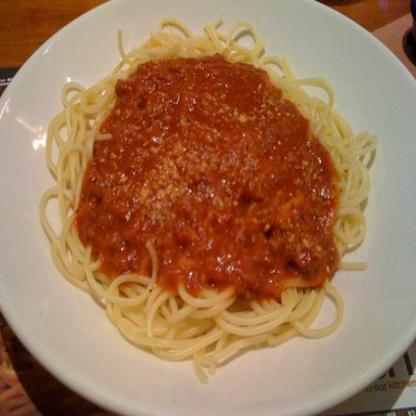pasta: (52, 17, 376, 352)
